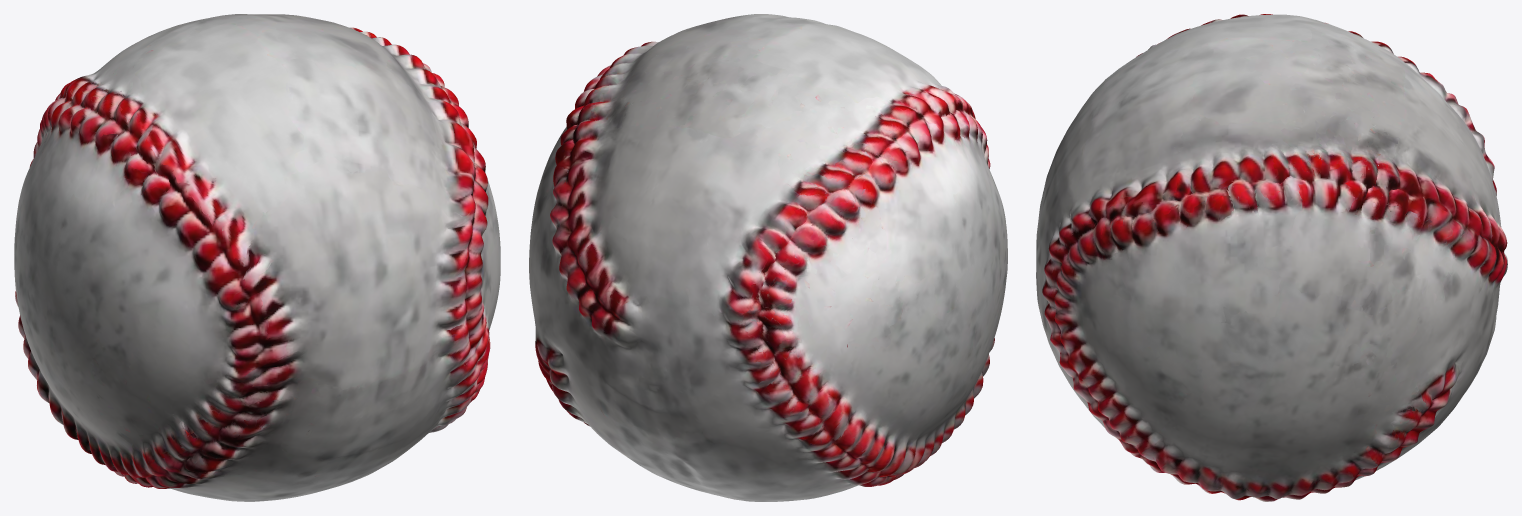
Rendered from cap.glb.
The picture shows the model from 3 angles, left to right: view 1: azimuth 30°, elevation 25°; view 2: azimuth 150°, elevation 25°; view 3: azimuth 270°, elevation 25°; orthographic projection. The views are drawn at different scales.
Visible parts, largest first — view 1: world; view 2: world; view 3: world.
Boxes of the visible parts, x1,y1,x2,y2 form: world: [14, 14, 500, 501]; world: [529, 14, 1007, 501]; world: [1036, 14, 1507, 501].
Size of the model in its own units: 0.9798 by 1 by 0.9944.
Materials: 1 (1 with a texture image).
